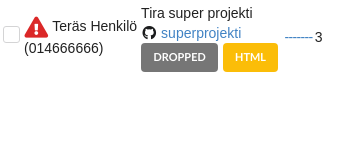
Test: <StudentTableRow /> › StudentTableRow Component › displays warning if repo is not accessible
The image size is (339, 160).
Hover over the icon with class "sign" at (36, 28), box left=24, top=17, right=49, bottom=38
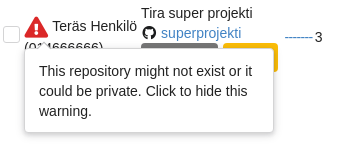
Check: the text "This repository might not exist or it could be private" is shown, box left=39, top=63, right=252, bottom=99
